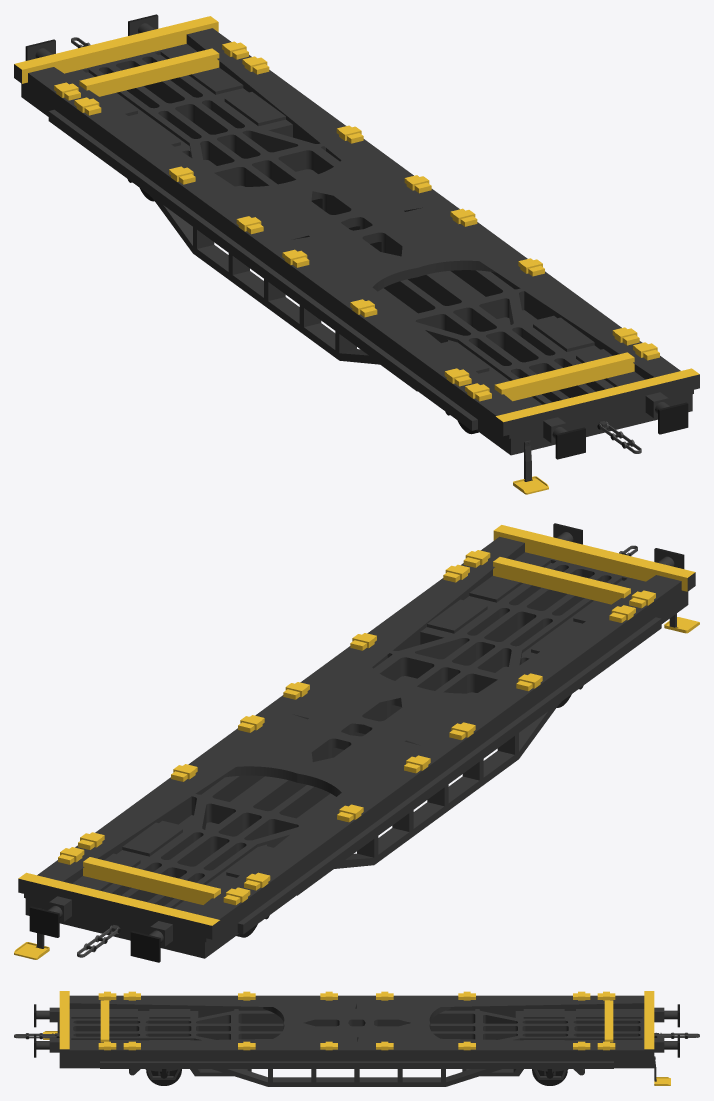
File: trainWagon.obj
The picture shows the model from 3 angles, top to bottom: view 1: azimuth 30°, elevation 25°; view 2: azimuth 150°, elevation 25°; view 3: azimuth 270°, elevation 25°; orthographic projection. The views are drawn at different scales.
Visible parts, largest first — view 1: Mesh12 Lgjns_wk_forth3 Group2 Model, Mesh7 Lgjns_wk_forth2 Group1 Model, Mesh17 Lgjns_wk_forth4 Group2 Model, Mesh2 Lgjns_wk_forth1 Group1 Model, Mesh20 Lgjns_wk_forth4 Group2 Model, Mesh15 Lgjns_wk_forth3 Group2 Model, Mesh39 St__Platta1 Model; view 2: Mesh7 Lgjns_wk_forth2 Group1 Model, Mesh12 Lgjns_wk_forth3 Group2 Model, Mesh2 Lgjns_wk_forth1 Group1 Model, Mesh17 Lgjns_wk_forth4 Group2 Model, Mesh10 Lgjns_wk_forth2 Group1 Model, Mesh5 Lgjns_wk_forth1 Group1 Model; view 3: Mesh17 Lgjns_wk_forth4 Group2 Model, Mesh2 Lgjns_wk_forth1 Group1 Model, Mesh7 Lgjns_wk_forth2 Group1 Model, Mesh12 Lgjns_wk_forth3 Group2 Model, Mesh10 Lgjns_wk_forth2 Group1 Model, Mesh15 Lgjns_wk_forth3 Group2 Model, Mesh5 Lgjns_wk_forth1 Group1 Model, Mesh20 Lgjns_wk_forth4 Group2 Model, Mesh1 hjul_1_1 Lgjns_wk_forth1 Group1 Model, Mesh16 hjul_1_4 Lgjns_wk_forth4 Group2 Model, Mesh40 St__Platta2 Model.
Part boxes in pixels (bbox=[...]): Mesh12 Lgjns_wk_forth3 Group2 Model: bbox=[260, 226, 601, 455]; Mesh7 Lgjns_wk_forth2 Group1 Model: bbox=[14, 40, 349, 306]; Mesh17 Lgjns_wk_forth4 Group2 Model: bbox=[364, 201, 699, 433]; Mesh2 Lgjns_wk_forth1 Group1 Model: bbox=[112, 16, 448, 230]; Mesh20 Lgjns_wk_forth4 Group2 Model: bbox=[645, 392, 688, 434]; Mesh15 Lgjns_wk_forth3 Group2 Model: bbox=[543, 417, 585, 459]; Mesh39 St__Platta1 Model: bbox=[513, 440, 548, 494]; Mesh7 Lgjns_wk_forth2 Group1 Model: bbox=[115, 732, 452, 958]; Mesh12 Lgjns_wk_forth3 Group2 Model: bbox=[364, 548, 695, 811]; Mesh2 Lgjns_wk_forth1 Group1 Model: bbox=[18, 708, 349, 936]; Mesh17 Lgjns_wk_forth4 Group2 Model: bbox=[266, 525, 598, 736]; Mesh10 Lgjns_wk_forth2 Group1 Model: bbox=[130, 921, 172, 962]; Mesh5 Lgjns_wk_forth1 Group1 Model: bbox=[29, 896, 71, 937]; Mesh17 Lgjns_wk_forth4 Group2 Model: bbox=[59, 1020, 356, 1086]; Mesh2 Lgjns_wk_forth1 Group1 Model: bbox=[357, 1020, 654, 1086]; Mesh7 Lgjns_wk_forth2 Group1 Model: bbox=[357, 991, 654, 1031]; Mesh12 Lgjns_wk_forth3 Group2 Model: bbox=[59, 991, 356, 1031]; Mesh10 Lgjns_wk_forth2 Group1 Model: bbox=[654, 1004, 679, 1027]; Mesh15 Lgjns_wk_forth3 Group2 Model: bbox=[34, 1004, 59, 1027]; Mesh5 Lgjns_wk_forth1 Group1 Model: bbox=[654, 1034, 679, 1057]; Mesh20 Lgjns_wk_forth4 Group2 Model: bbox=[34, 1034, 59, 1057]; Mesh1 hjul_1_1 Lgjns_wk_forth1 Group1 Model: bbox=[532, 1069, 567, 1085]; Mesh16 hjul_1_4 Lgjns_wk_forth4 Group2 Model: bbox=[146, 1069, 181, 1085]; Mesh40 St__Platta2 Model: bbox=[654, 1056, 670, 1085].
Size of the model in its own units: 3293 by 1378 by 16399.
